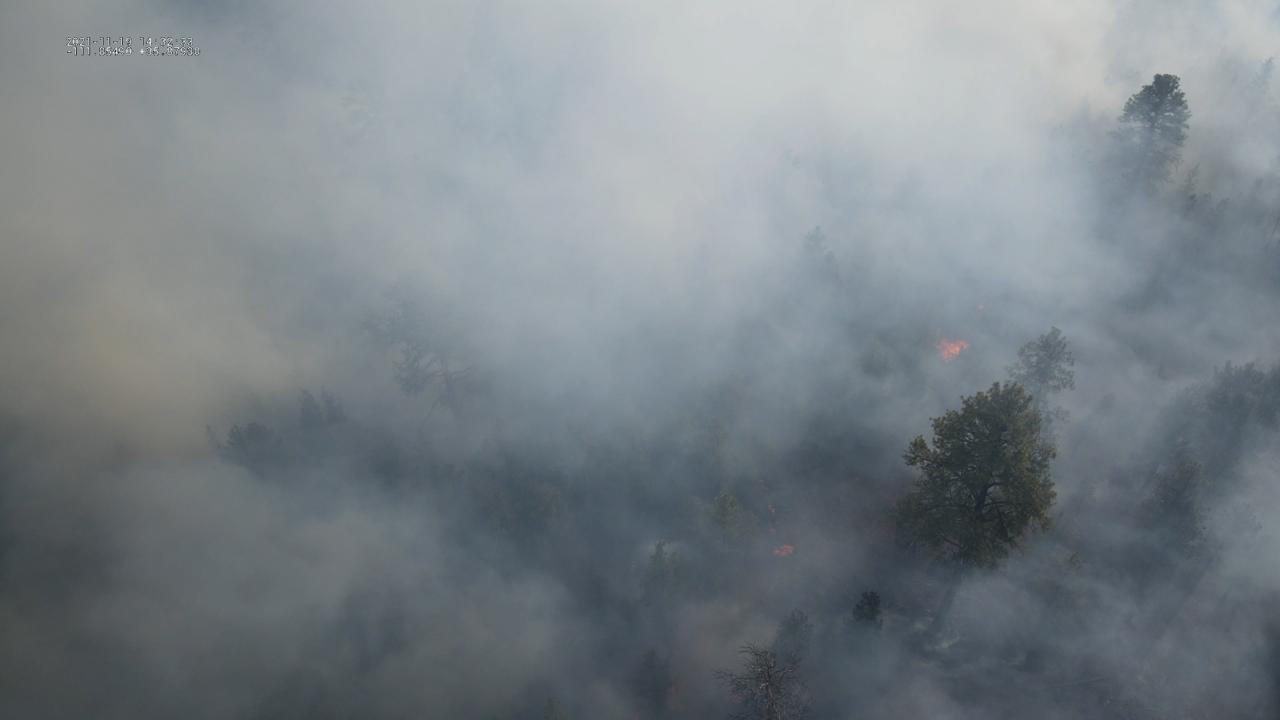fire: (934, 333, 971, 366), (770, 544, 796, 559), (767, 503, 776, 515), (975, 305, 987, 312)
smoke: (0, 0, 1280, 720)
